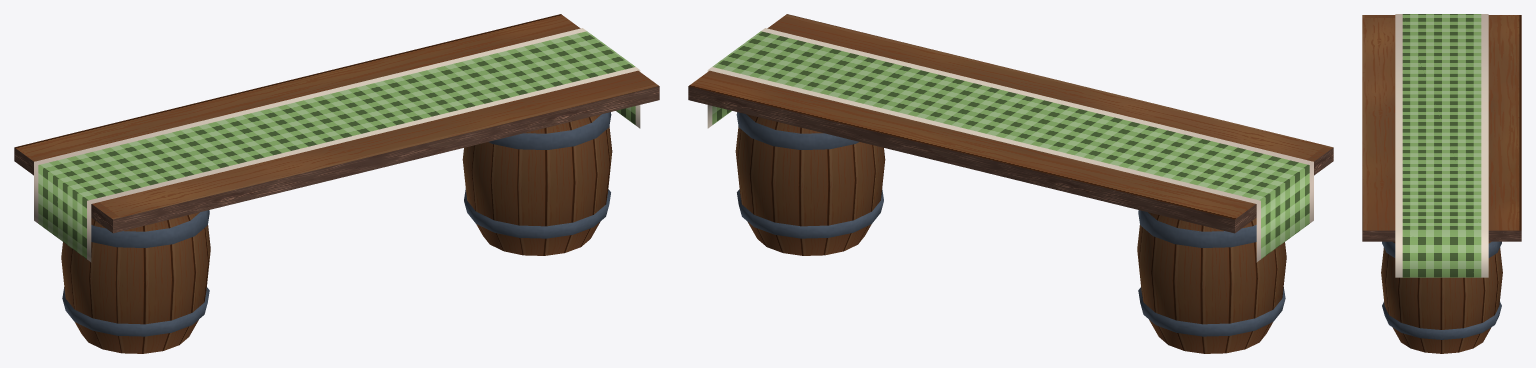
Rendered from Table_Dessert_Art.fbx.
3 views of the same model, side by side, from view 1: azimuth 30°, elevation 25°; view 2: azimuth 150°, elevation 25°; view 3: azimuth 270°, elevation 25° (orthographic). The views are drawn at different scales.
Visible parts, largest first — view 1: Oktoberfest_Table_Dessert; view 2: Oktoberfest_Table_Dessert; view 3: Oktoberfest_Table_Dessert.
Boxes of the visible parts, bbox=[...] form: Oktoberfest_Table_Dessert: bbox=[14, 14, 659, 353]; Oktoberfest_Table_Dessert: bbox=[688, 14, 1333, 353]; Oktoberfest_Table_Dessert: bbox=[1362, 14, 1521, 353].
Bounding box in the file's own units: 317 × 91.47 × 98.6.
